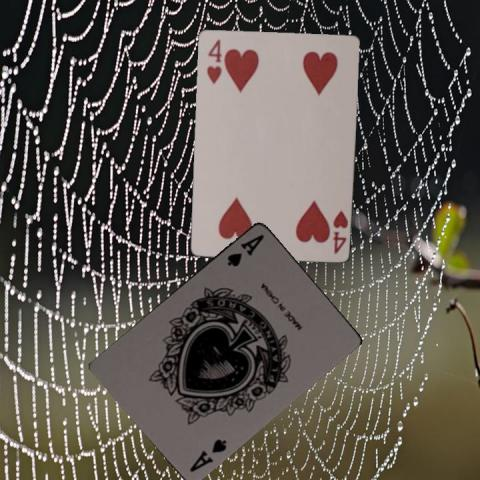4h: (329, 207, 349, 255), (204, 36, 222, 85)
As: (186, 436, 229, 474), (223, 231, 266, 268)
